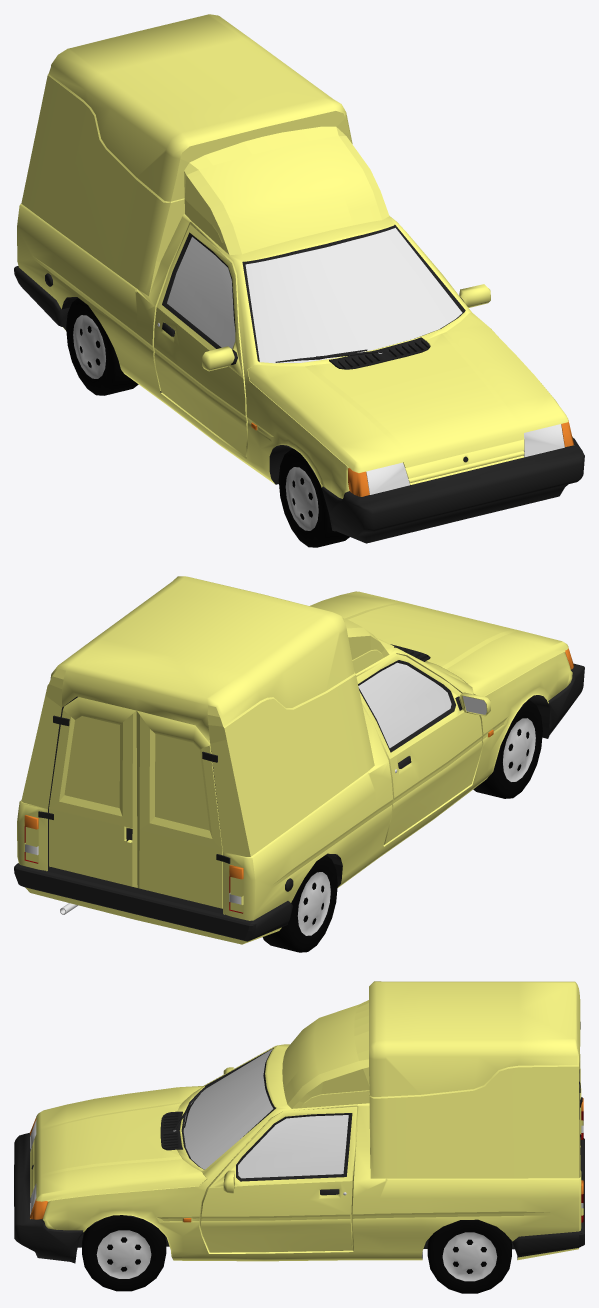
The model's file is ZAZ_110557.fbx.
3 renders of one model, top to bottom at view 1: azimuth 30°, elevation 25°; view 2: azimuth 150°, elevation 25°; view 3: azimuth 270°, elevation 25°, orthographic. The views are drawn at different scales.
Parts seen in each view (by area): view 1: Body, Wheel.RR, Wheel.FR; view 2: Body, Wheel.RR, Wheel.FR; view 3: Body, Wheel.FL, Wheel.RL.
Boxes of the visible parts, <box> form: Body: <box>14,14,584,543</box>; Wheel.RR: <box>66,298,138,395</box>; Wheel.FR: <box>278,449,349,547</box>; Body: <box>14,576,584,944</box>; Wheel.RR: <box>262,855,337,952</box>; Wheel.FR: <box>473,700,542,798</box>; Body: <box>14,981,584,1263</box>; Wheel.FL: <box>82,1215,166,1291</box>; Wheel.RL: <box>427,1219,511,1293</box>.
Size of the model in its own units: 190 by 182 by 397.
